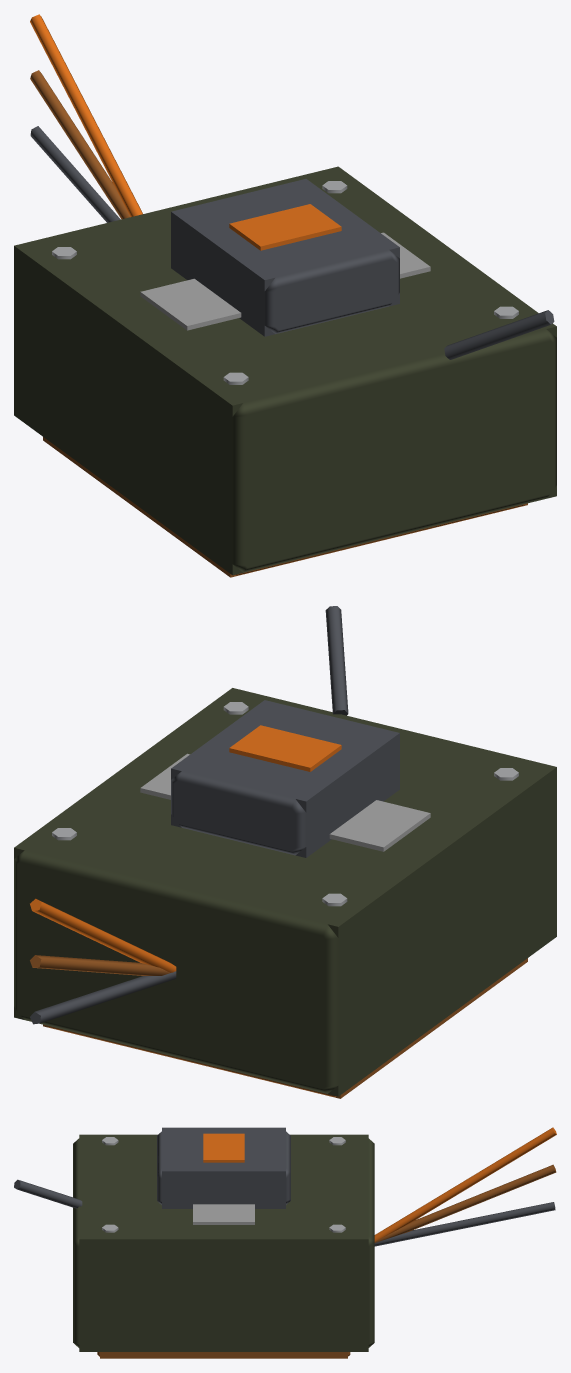
3 renders of one model, top to bottom at view 1: azimuth 30°, elevation 25°; view 2: azimuth 150°, elevation 25°; view 3: azimuth 270°, elevation 25°, orthographic. The views are drawn at different scales.
Visible parts, largest first — view 1: L0, L1; view 2: L0, L1; view 3: L0, L1.
Part boxes in pixels (box(x1,y1,x2,y2)): L0: box(14, 14, 556, 576); L1: box(14, 166, 556, 577); L0: box(14, 606, 556, 1097); L1: box(14, 688, 556, 1098); L0: box(14, 1127, 556, 1356); L1: box(79, 1127, 368, 1358).
Size of the model in its own units: 0.12 by 0.0977 by 0.2627.
